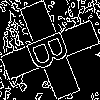B: (25, 25, 81, 73)
